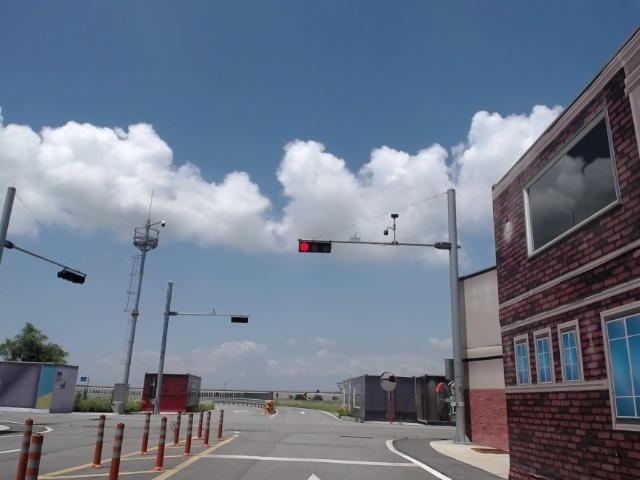red_3: (298, 238, 332, 254)
